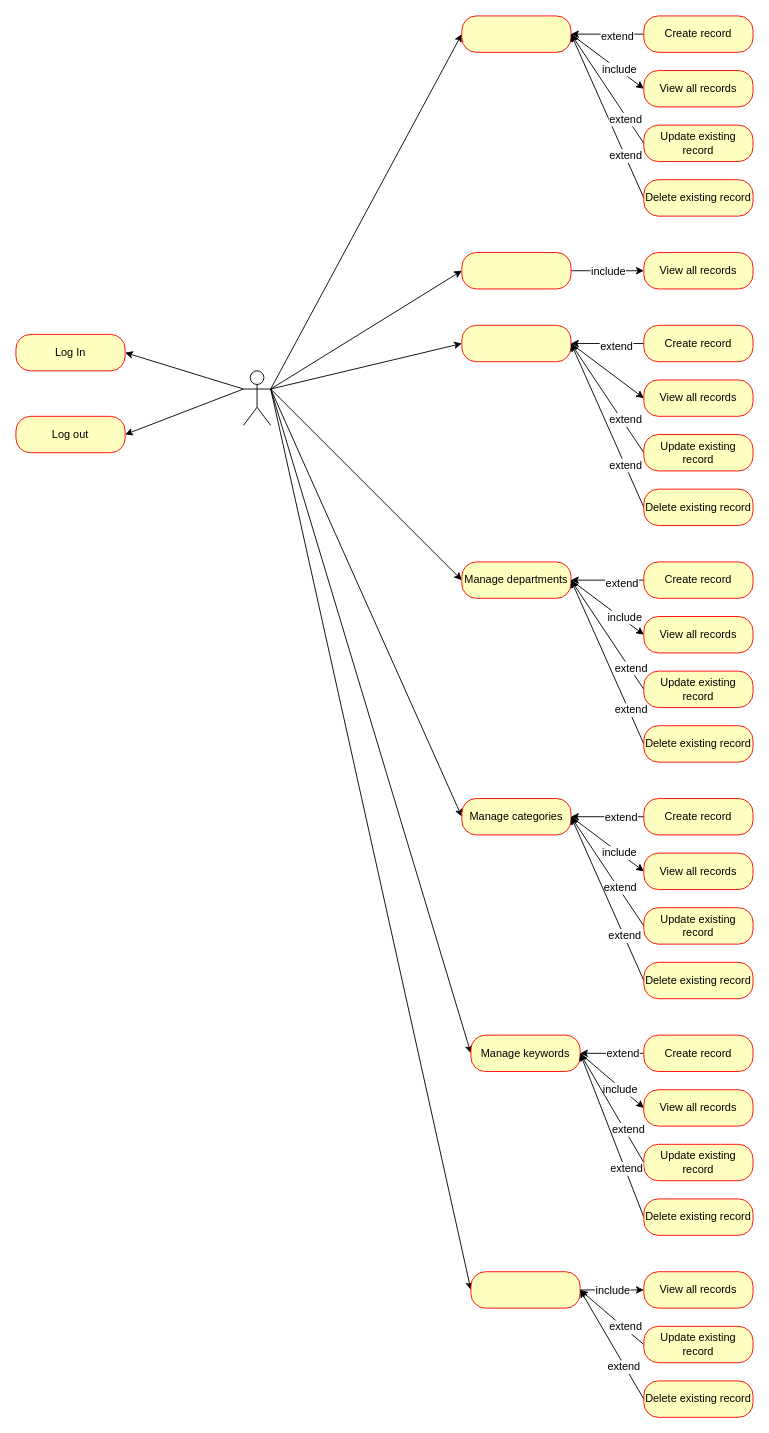
This 769x1433 diagram has some shape labels left out. The shapes that lost their labels are listed below. From the top down, each one's centre as x and y in pixels, then its label:
At [516,33]: "Manage users".
At [516,270]: "Manage roles".
At [516,343]: "Manage companies".
At [257,397]: "Super Admin".
At [525,1289]: "Manage classifieds".
